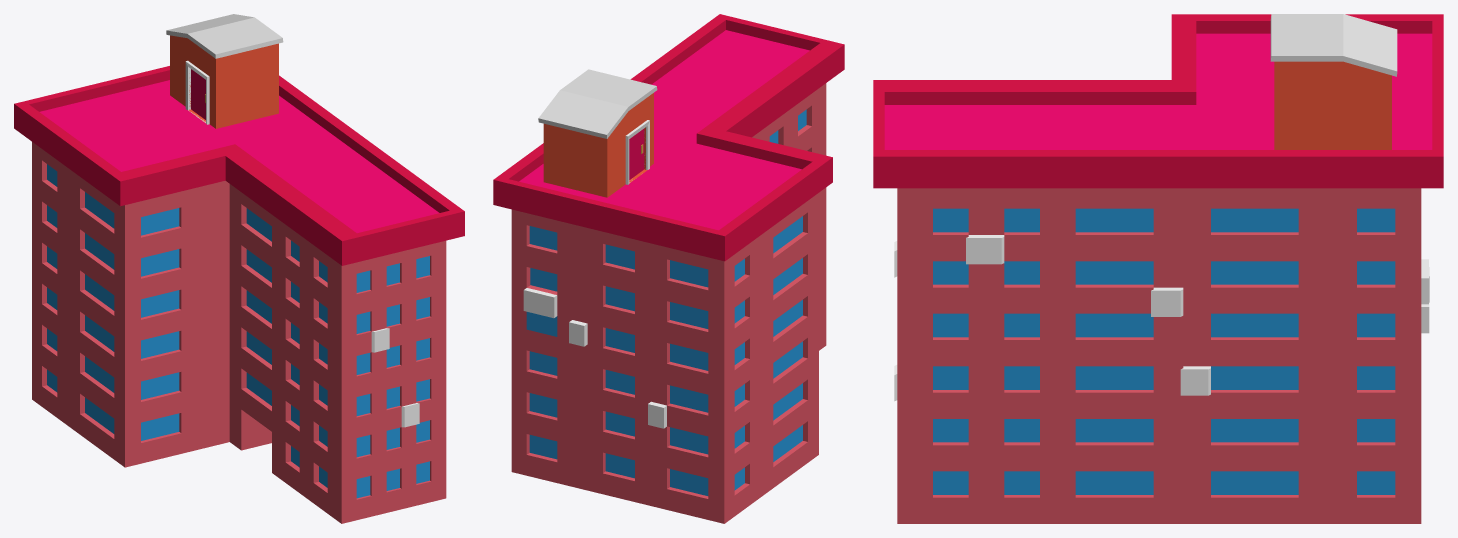
Rendered from building_bigred.fbx.
3 views of the same model, side by side, from view 1: azimuth 30°, elevation 25°; view 2: azimuth 150°, elevation 25°; view 3: azimuth 270°, elevation 25° (orthographic). The views are drawn at different scales.
Parts seen in each view (by area): view 1: building, roop, top_floor, glass, top_exit, exit_roof, white_brick, door; view 2: building, roop, top_floor, glass, top_exit, exit_roof, white_brick, door; view 3: building, glass, roop, top_floor, top_exit, exit_roof, white_brick.
Boxes of the visible parts, x1,y1,x2,y2 form: building: (32,142,446,523); roop: (14,66,464,265); top_floor: (40,80,439,233); glass: (47,164,429,498); top_exit: (170,35,278,128); exit_roof: (166,14,283,58); white_brick: (185,60,419,427); door: (191,69,205,119); building: (511,83,826,523); roop: (493,14,844,261); top_floor: (519,30,809,230); glass: (526,109,806,495); top_exit: (543,93,653,197); exit_roof: (538,69,657,138); white_brick: (523,120,666,428); door: (629,128,644,179); building: (897,188,1421,523); glass: (933,208,1395,494); roop: (873,14,1443,188); top_floor: (884,33,1432,149); top_exit: (1274,61,1391,149); exit_roof: (1270,14,1397,76); white_brick: (894,235,1429,401).
Size of the model in its own units: 6333 by 9495 by 10729.
